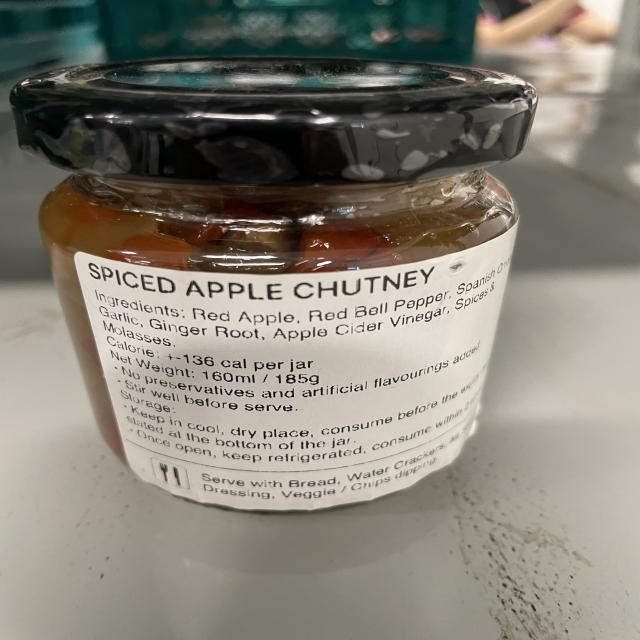object_name: (17, 60, 532, 506)
